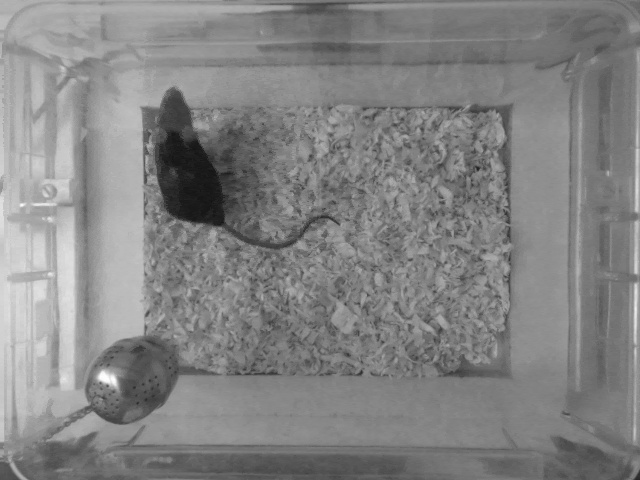mice: (153, 86, 340, 253)
